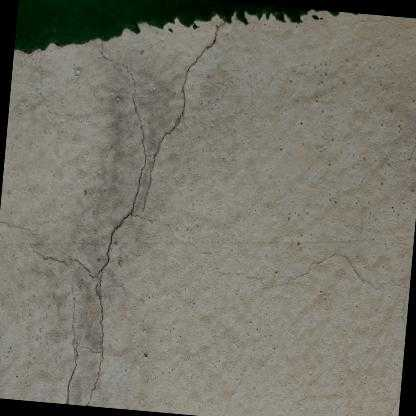crack: (80, 47, 149, 406), (137, 1, 233, 221), (60, 278, 80, 405)
